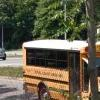Bus: (19, 36, 94, 100)
